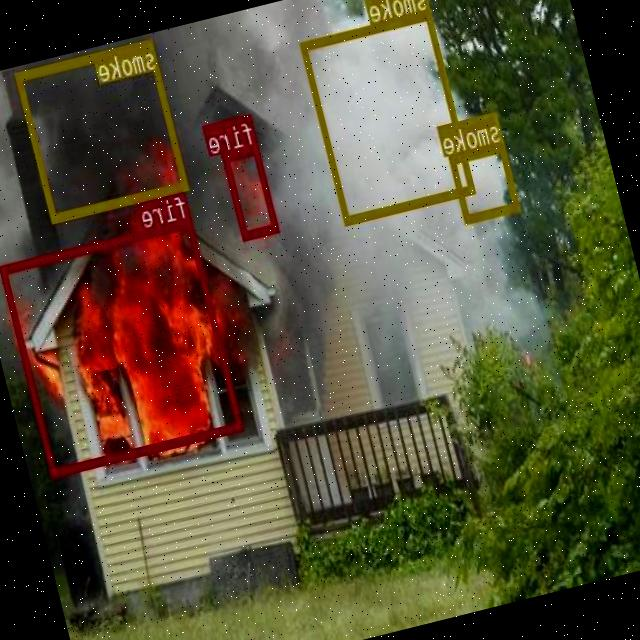fire: (0, 216, 244, 474), (222, 143, 280, 239)
smoke: (300, 9, 476, 222), (16, 38, 190, 222), (450, 140, 521, 221)
